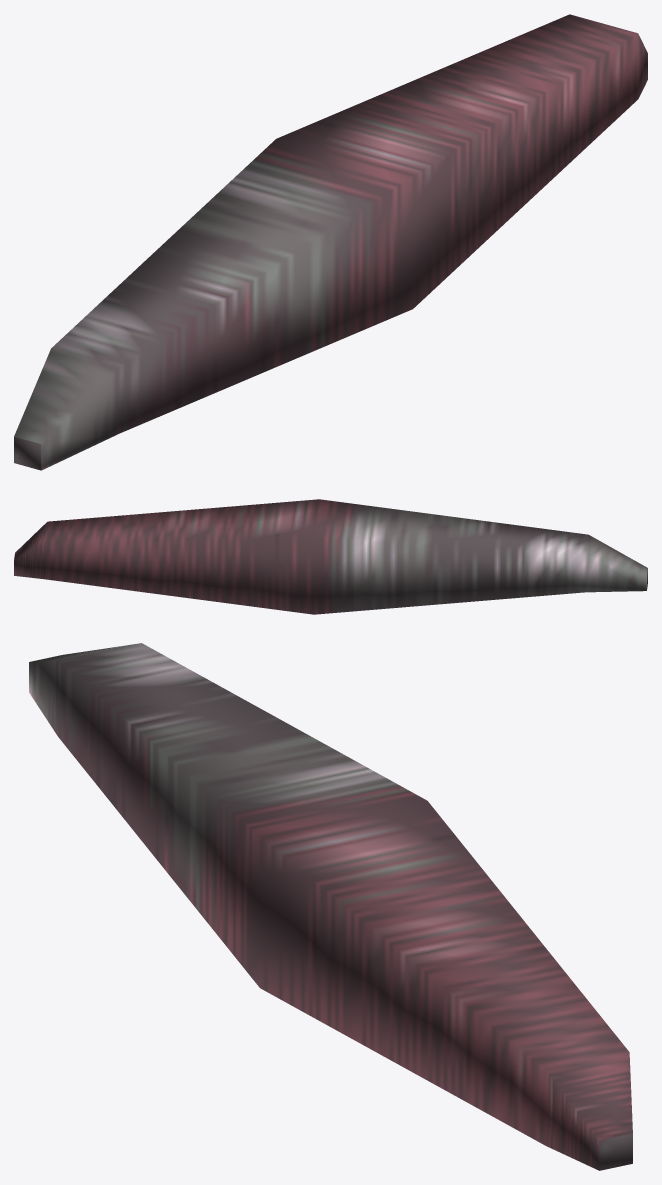
File: worm.gltf
3 views of the same model, one above another, from view 1: azimuth 30°, elevation 25°; view 2: azimuth 150°, elevation 25°; view 3: azimuth 270°, elevation 25° (orthographic). The views are drawn at different scales.
Visible parts, largest first — view 1: worm; view 2: worm; view 3: worm.
Boxes of the visible parts, x1,y1,x2,y2 form: worm: [14, 14, 647, 470]; worm: [14, 499, 647, 614]; worm: [29, 643, 632, 1170].
Bounding box in the file's own units: 1.4 × 0.2033 × 0.7336.
1 material, 1 textured.
